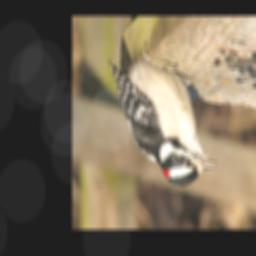Woodpecker: (107, 40, 221, 186)
